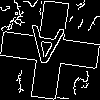A: (25, 25, 65, 75)
